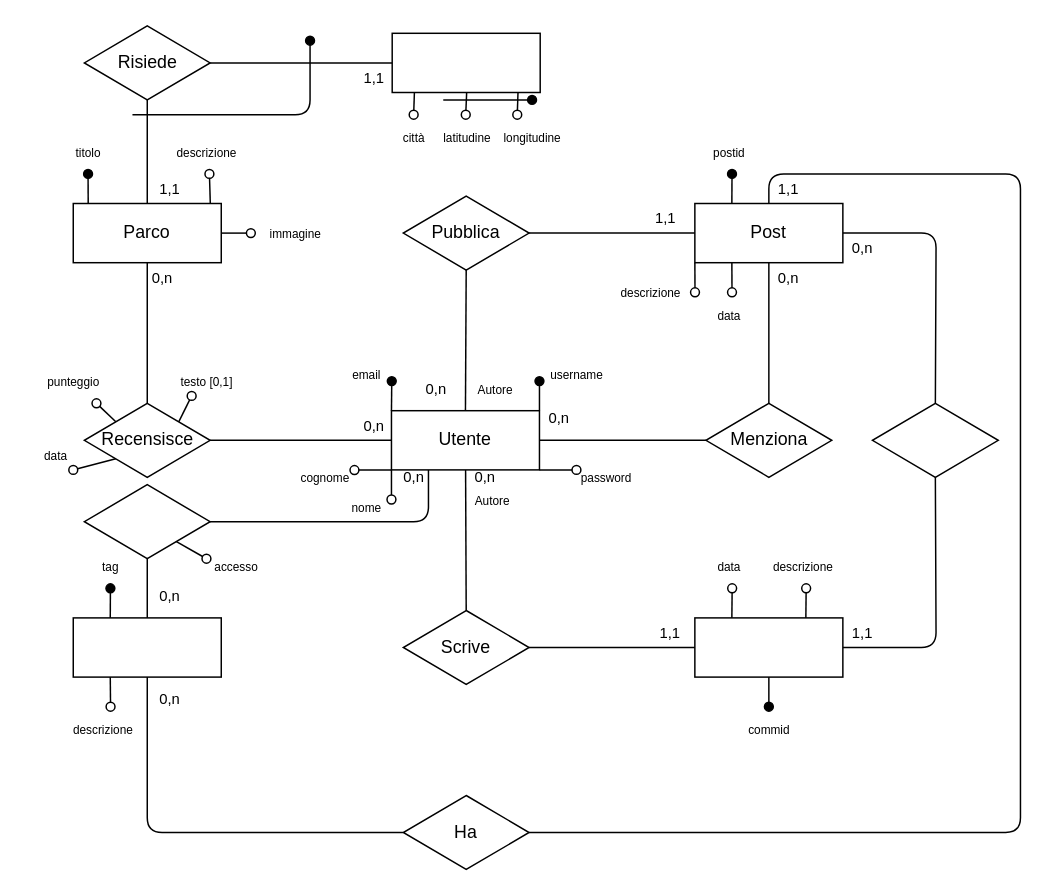
This 1048x895 diagram has some shape labels left out. The shapes that lost their labels are listed below. From the top down, each one's centre as x and y in pixels, then its label:
At (465,62): "Posizione".
At (934,439): "Risponde".
At (146,521): "Segue".
At (146,646): "Community".
At (768,646): "Commento".
